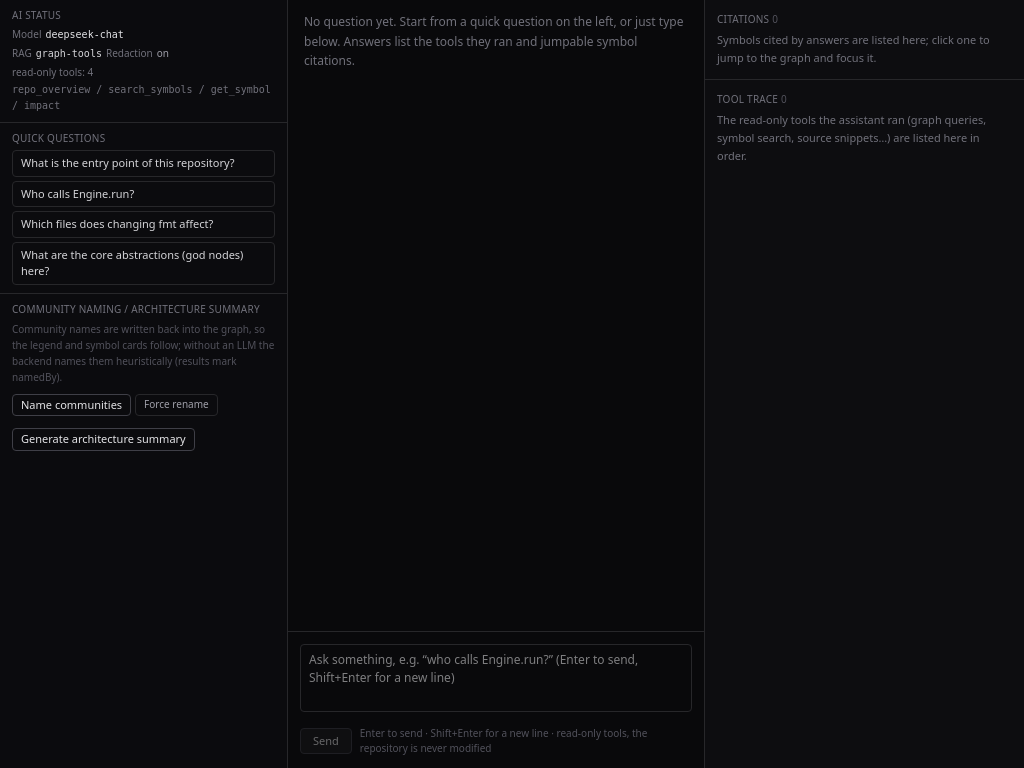
Test: AskView 对话 › 错误事件：消息里显示后端给的 message
Check: the text "deepseek-chat" is shown, box [46,27,124,42]
Step 1. Replace the text in the text box with test id "ask-input" with "问" → point(496, 678), box [300,644,692,712]
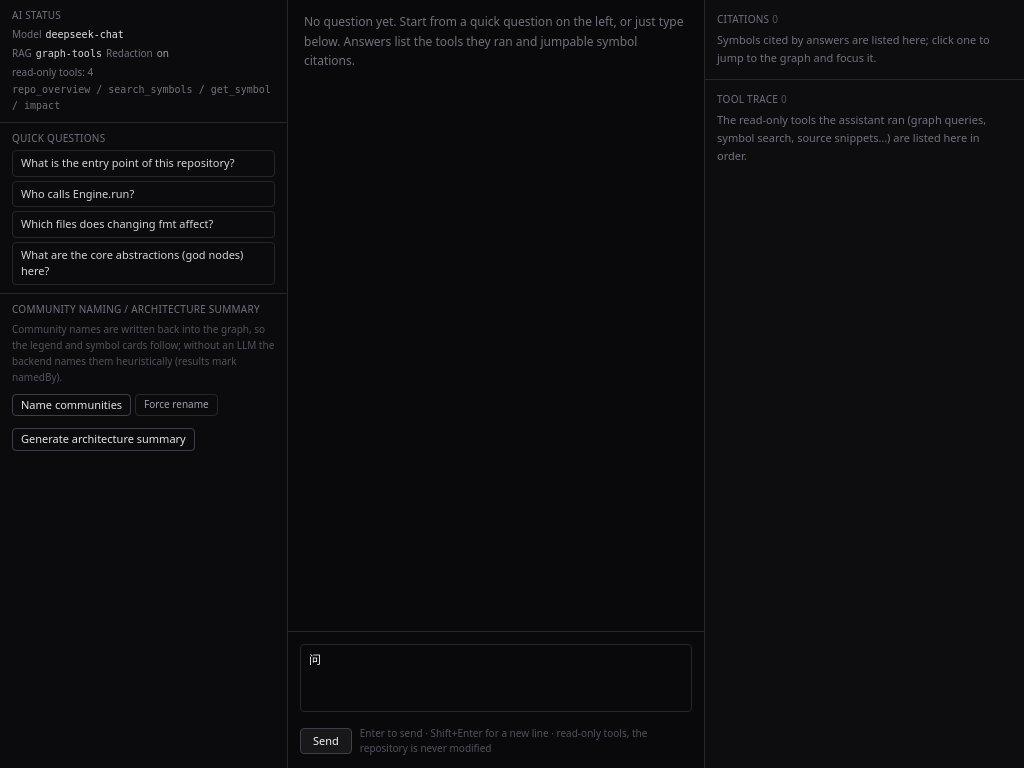
Step 2. Click the button with test id "ask-send" → point(326, 741), box [300,728,352,754]
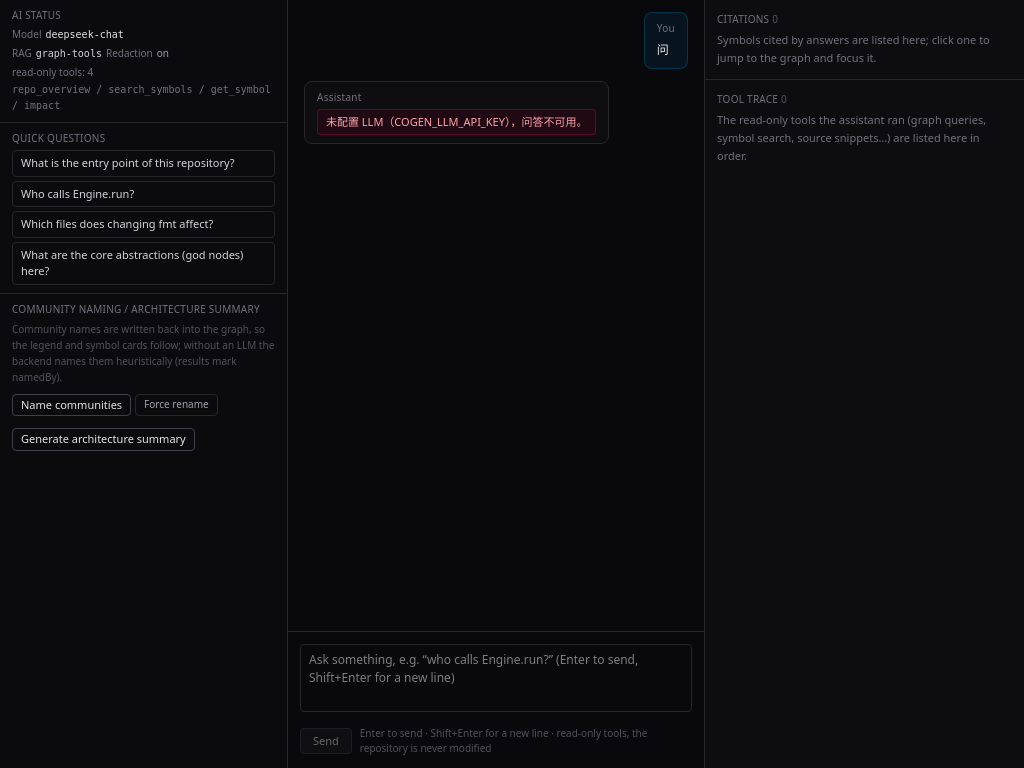
Check: the text with test id "ask-message-error" reads "未配置 LLM（COGEN_LLM_API_KEY），问答不可用。", box [326,114,587,128]
